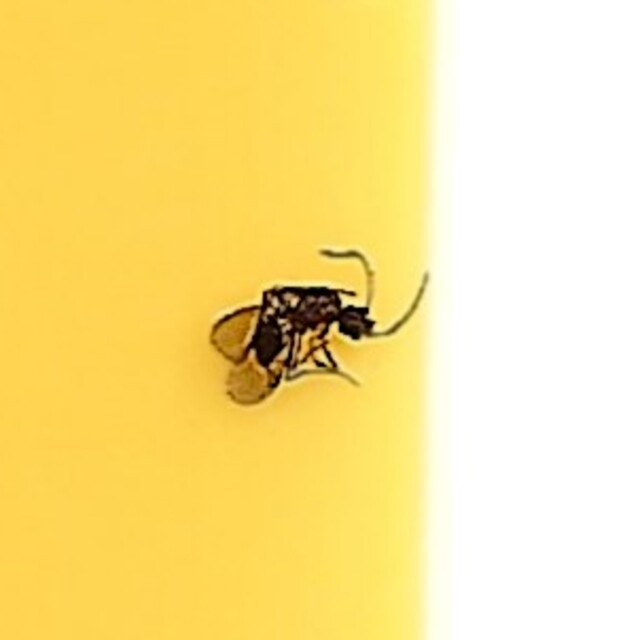Hymenoptera: (212, 229, 428, 411)
